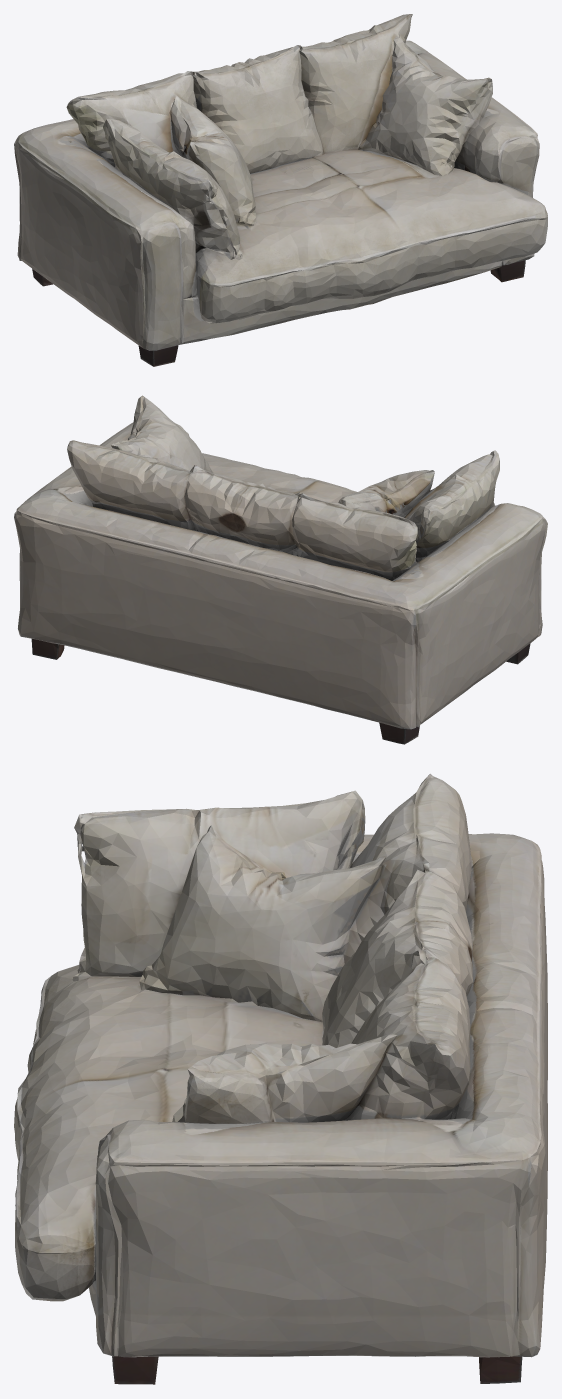
File: Sofa_1.fbx
3 views of the same model, one above another, from view 1: azimuth 30°, elevation 25°; view 2: azimuth 150°, elevation 25°; view 3: azimuth 270°, elevation 25° (orthographic). The views are drawn at different scales.
Parts seen in each view (by area): view 1: temp; view 2: temp; view 3: temp.
Boxes of the visible parts, x1,y1,x2,y2 form: temp: (14,14,547,366); temp: (14,395,547,744); temp: (14,773,547,1384).
Bounding box in the file's own units: 200 × 92.69 × 137.
1 material, 1 textured.
